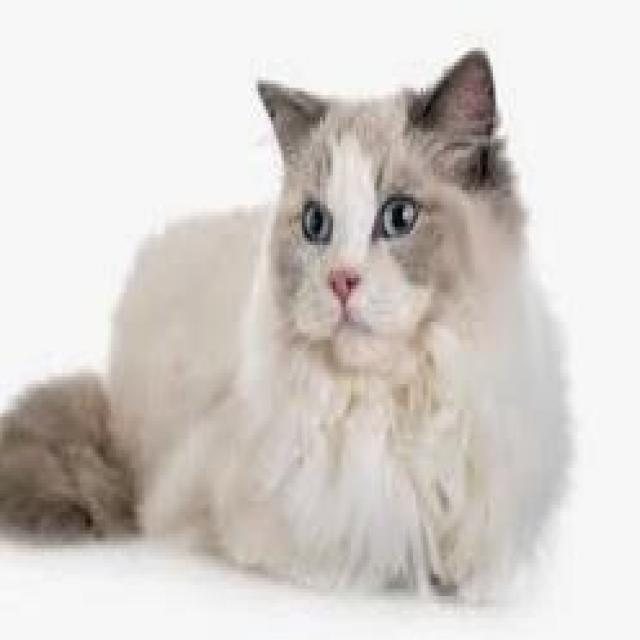Gato: (0, 40, 586, 600)
